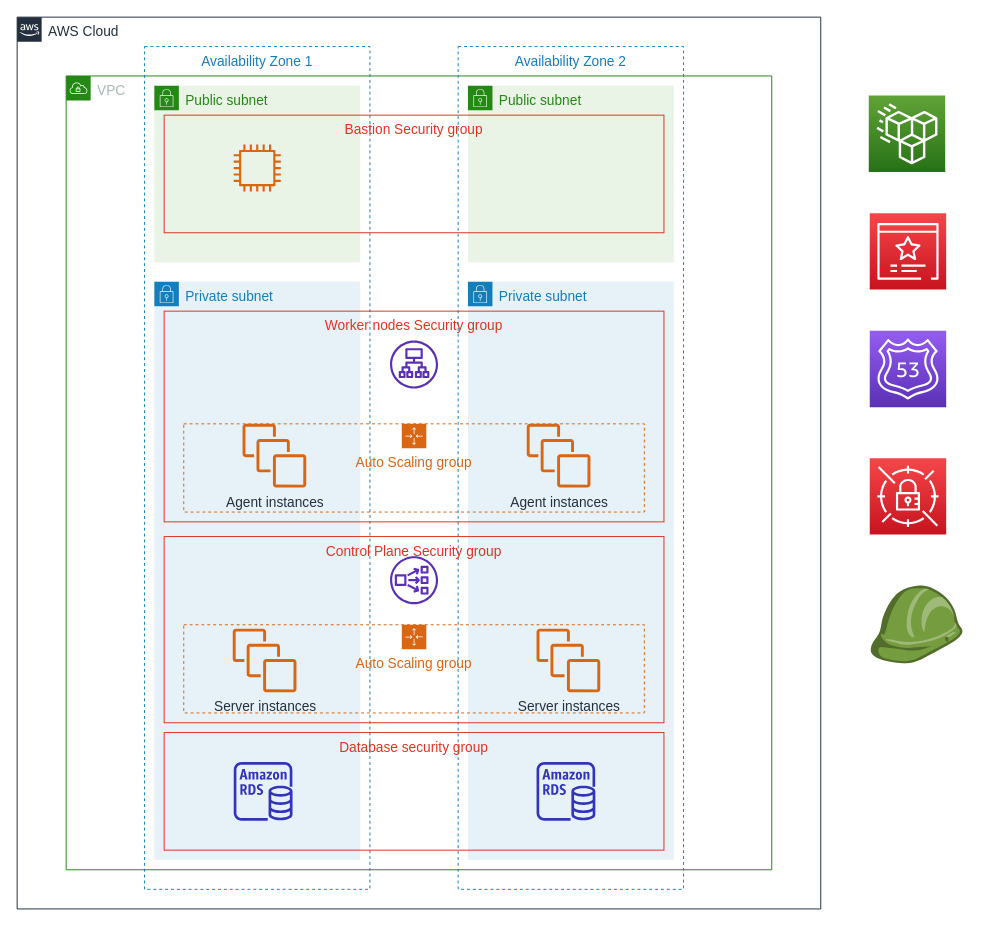
Some shapes in this 1002 by 926 pixel diagram are drawn without their labels. The centre of each missing label's shape, as x and y in pixels:
"Amazon Route 53" goes at pixel 907 368.
"Application load balancer" goes at pixel 414 364.
"AWS Certificate Manager" goes at pixel 907 251.
"AWS Elastic File System" goes at pixel 906 133.
"AWS Secrets Manager" goes at pixel 907 496.
"Bastion host" goes at pixel 256 167.
"IAM Role" goes at pixel 915 624.
"Network load balancer" goes at pixel 414 580.
